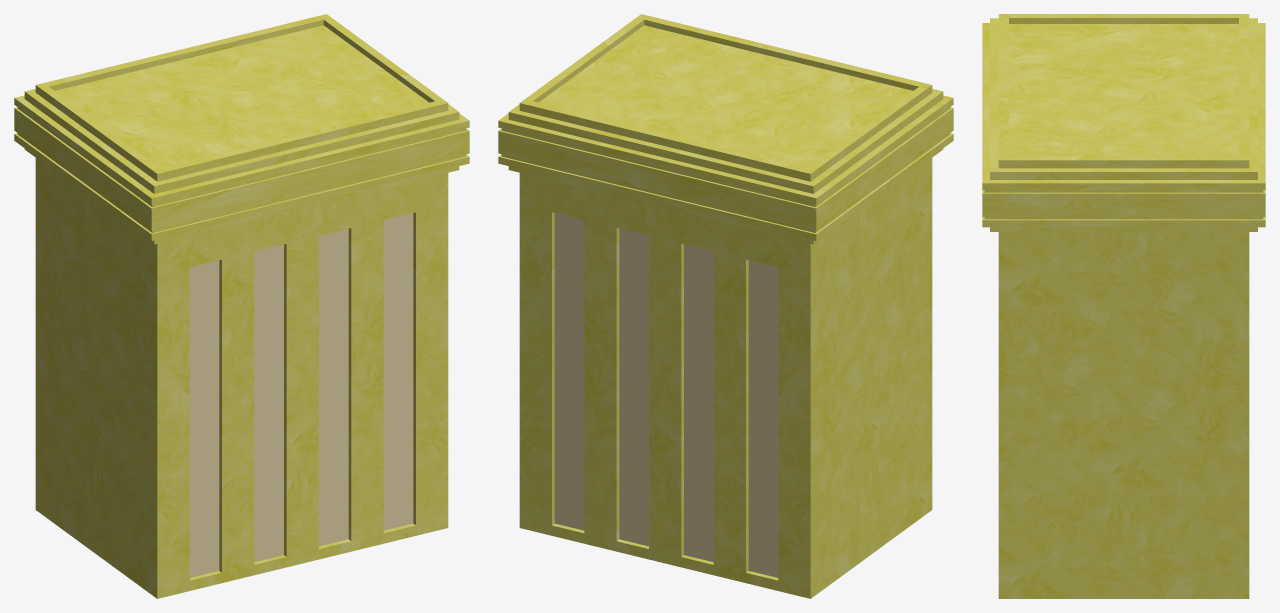
File: Building_03_Yellow.fbx
The picture shows the model from 3 angles, left to right: view 1: azimuth 30°, elevation 25°; view 2: azimuth 150°, elevation 25°; view 3: azimuth 270°, elevation 25°; orthographic projection. The views are drawn at different scales.
Parts seen in each view (by area): view 1: Building03_out, Building03_top, Building03_window; view 2: Building03_out, Building03_top, Building03_window; view 3: Building03_out, Building03_top.
Part boxes in pixels (bbox=[...]): Building03_out: bbox=[35, 158, 448, 598]; Building03_top: bbox=[14, 14, 469, 244]; Building03_window: bbox=[189, 213, 413, 577]; Building03_out: bbox=[519, 158, 932, 598]; Building03_top: bbox=[498, 14, 953, 244]; Building03_window: bbox=[554, 213, 778, 577]; Building03_out: bbox=[998, 232, 1249, 598]; Building03_top: bbox=[982, 14, 1265, 231].
Bounding box in the file's own units: 2624 × 3350 × 1962.
